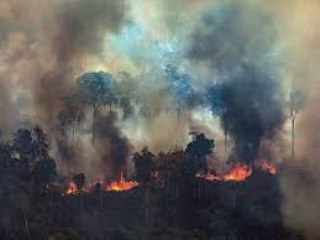fire: (197, 158, 285, 182), (60, 177, 141, 196)
smoke: (113, 91, 229, 158)
